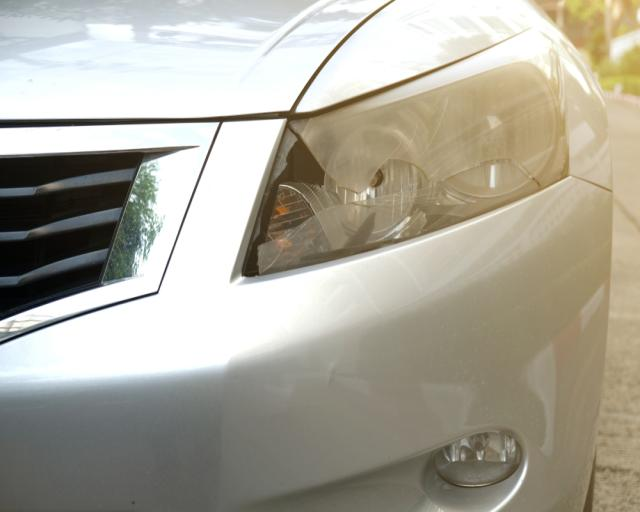lamp broken: (240, 33, 570, 279)
